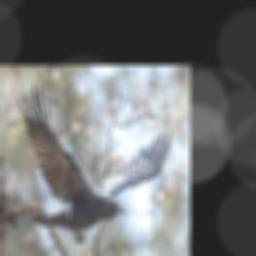Crow: (19, 83, 172, 244)
